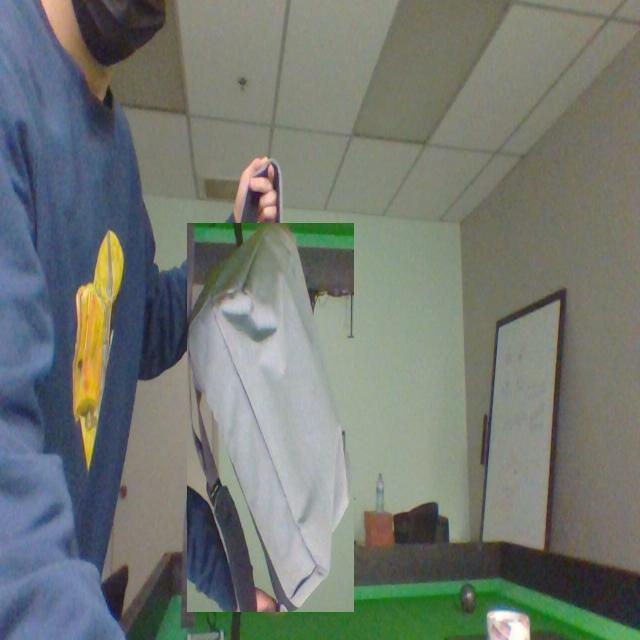Backpacks: (186, 223, 354, 613)
